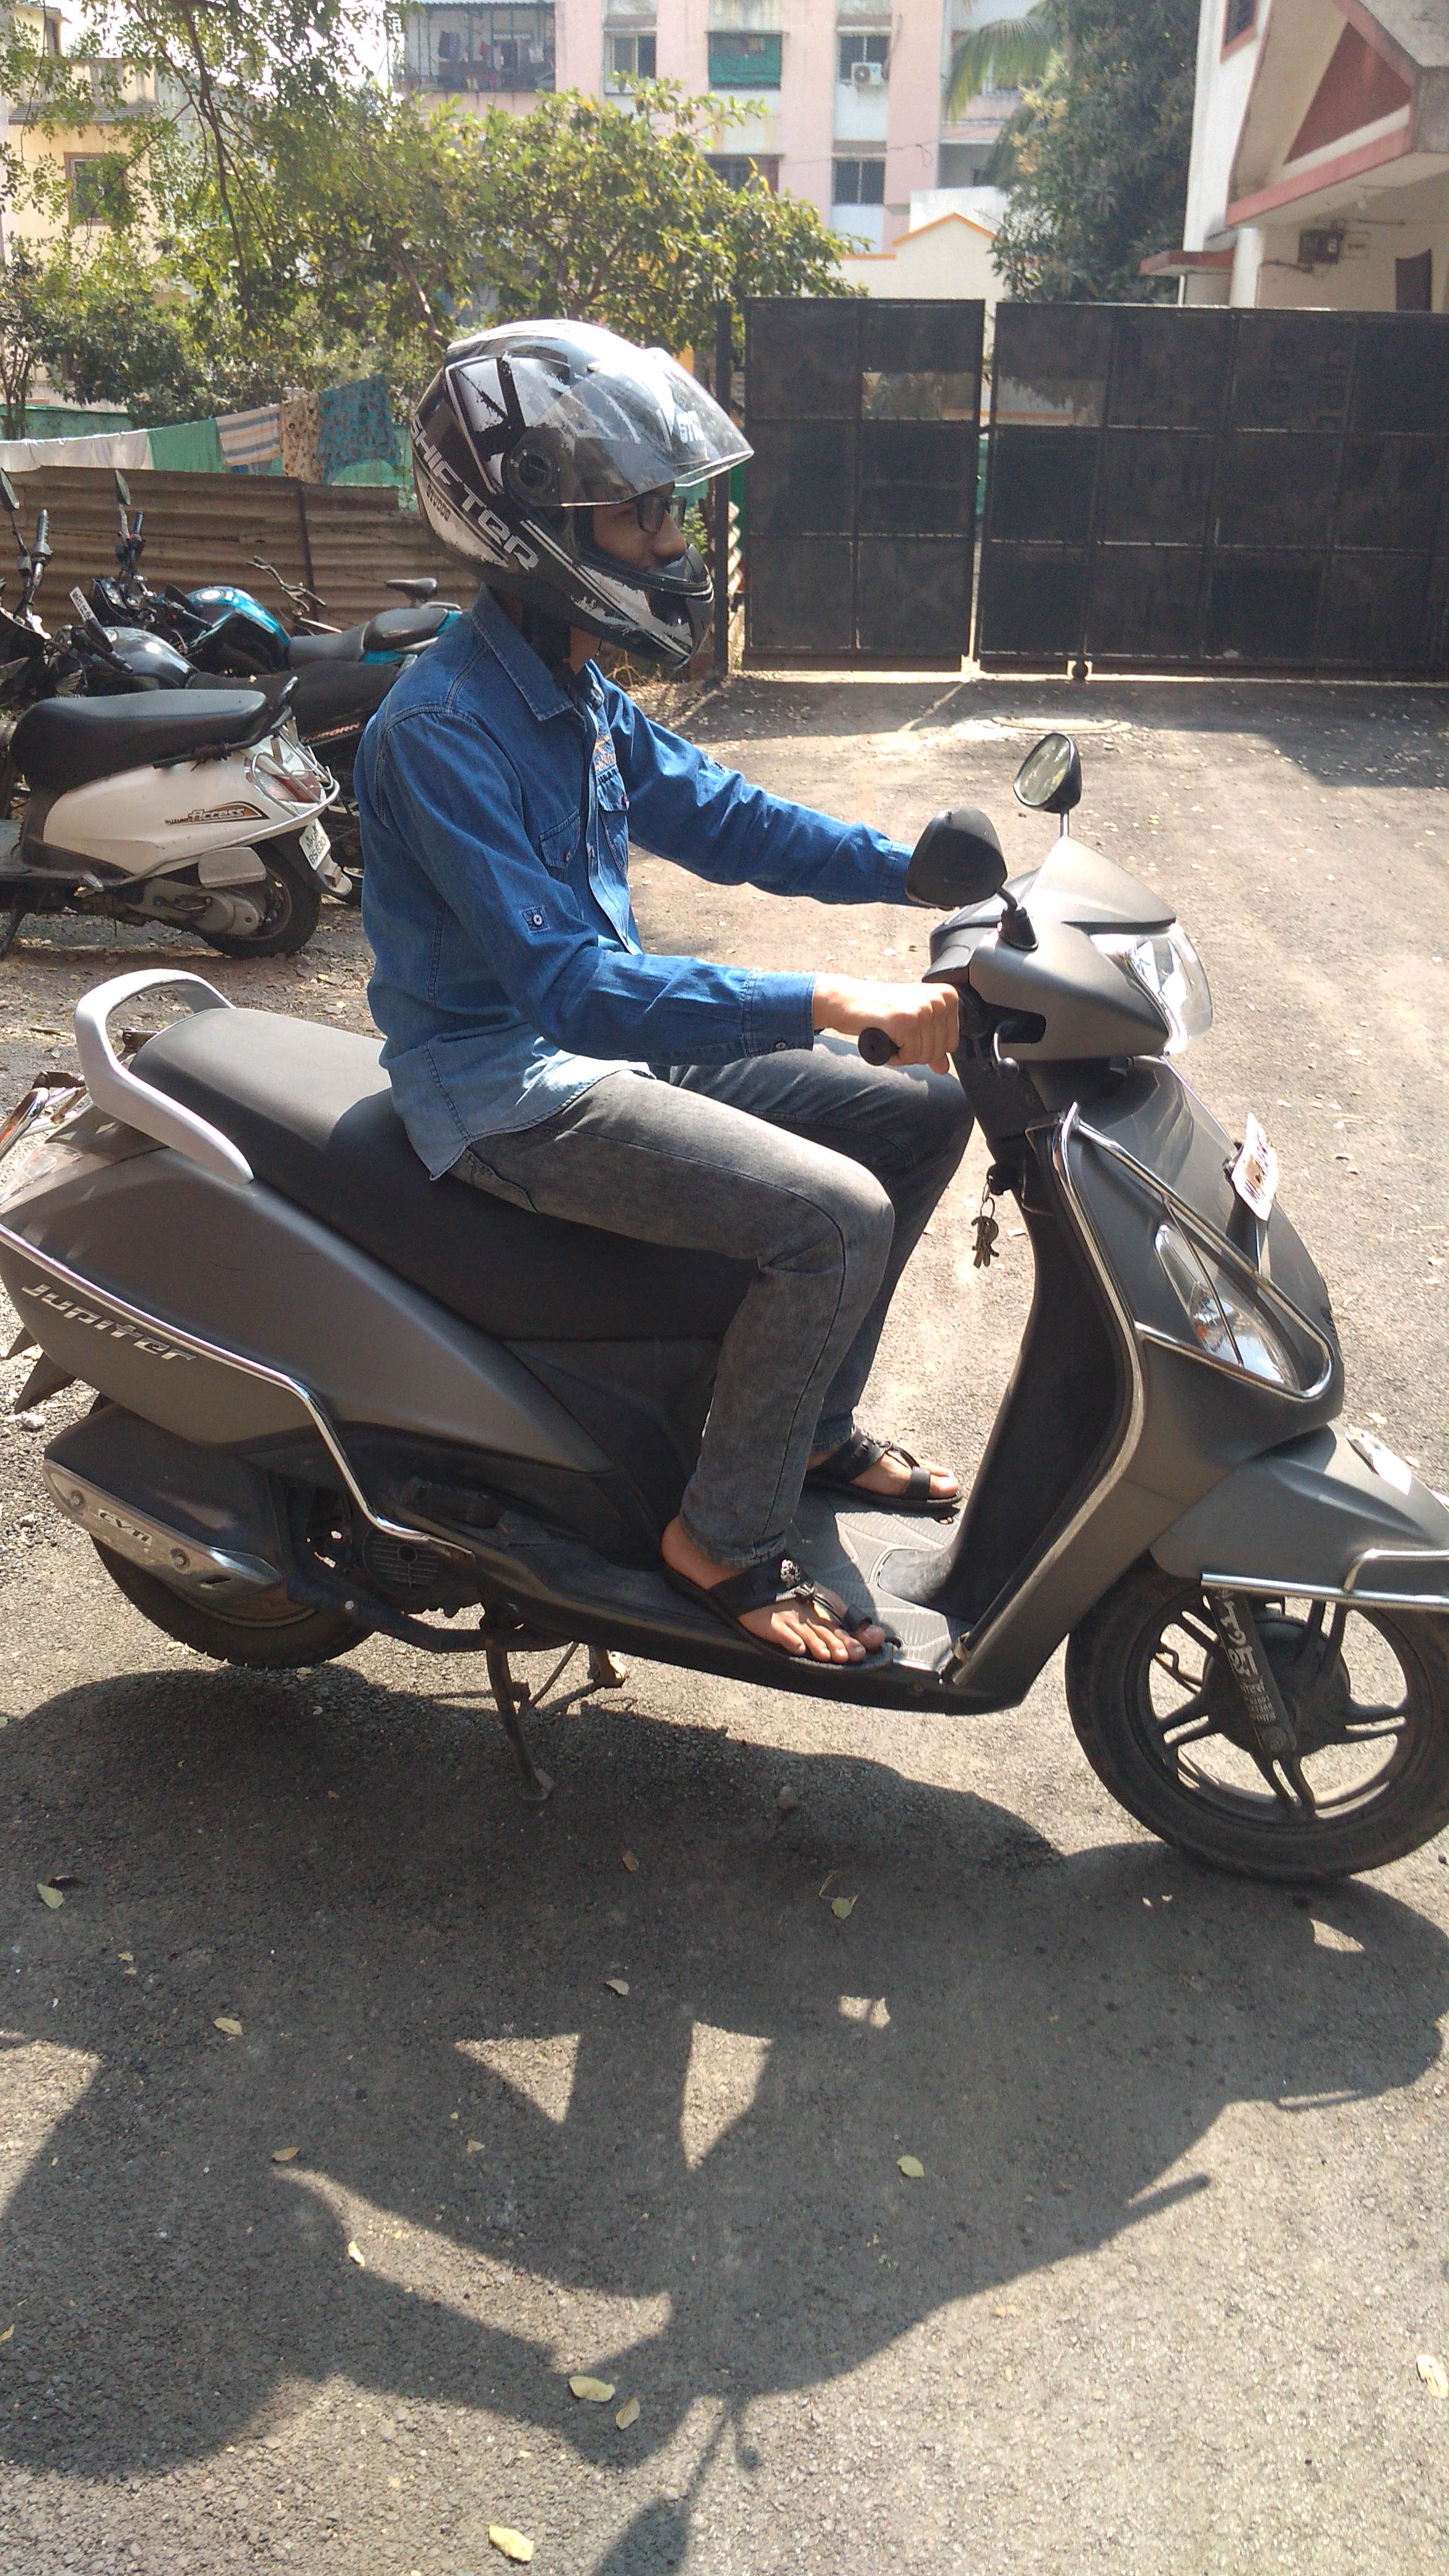helmet: (14, 301, 1449, 1780)
